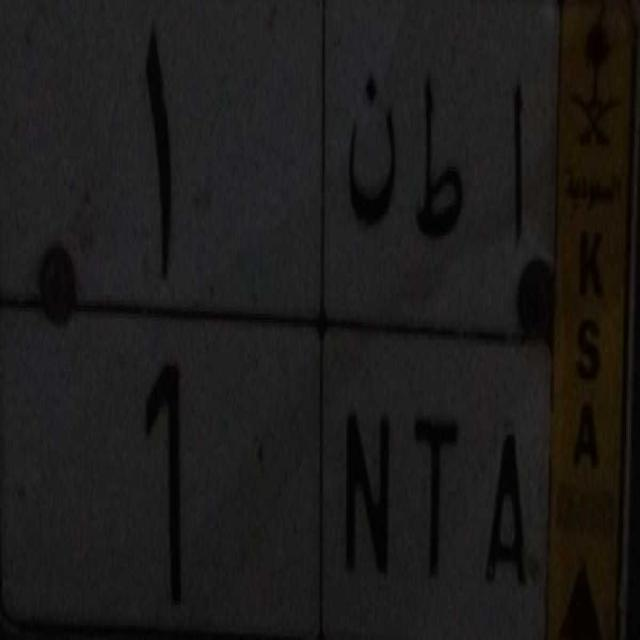license_plate: (0, 283, 548, 640)
